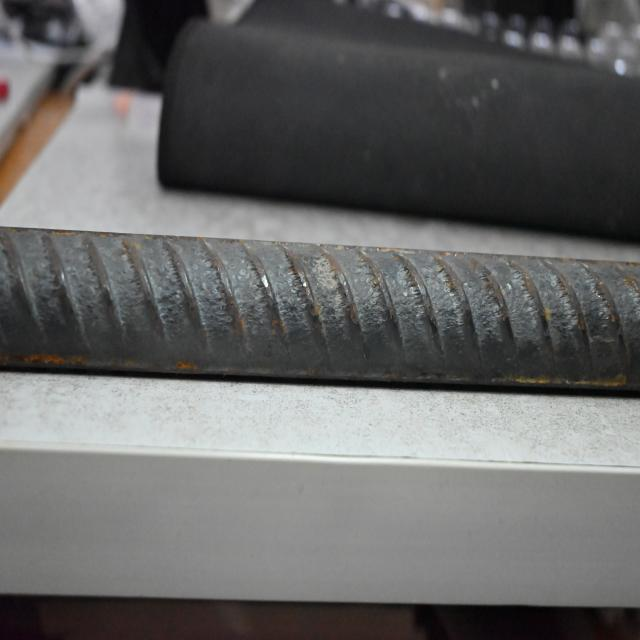ribbed bar: (1, 225, 640, 403)
